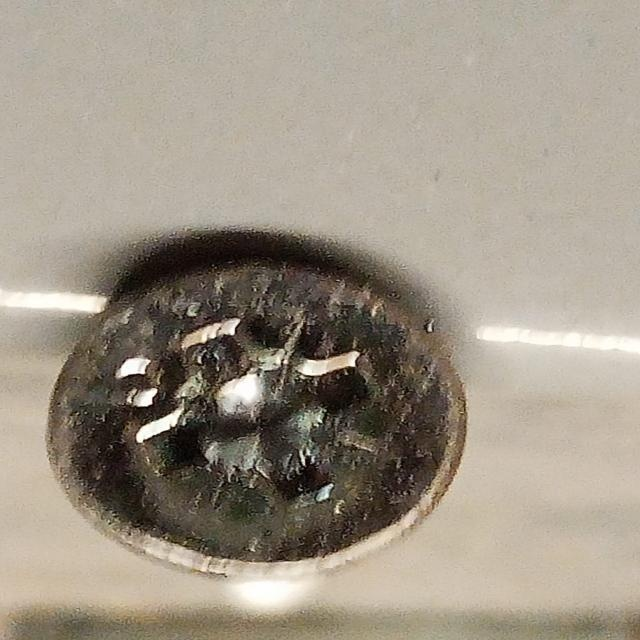pozidriv: (43, 256, 471, 582)
